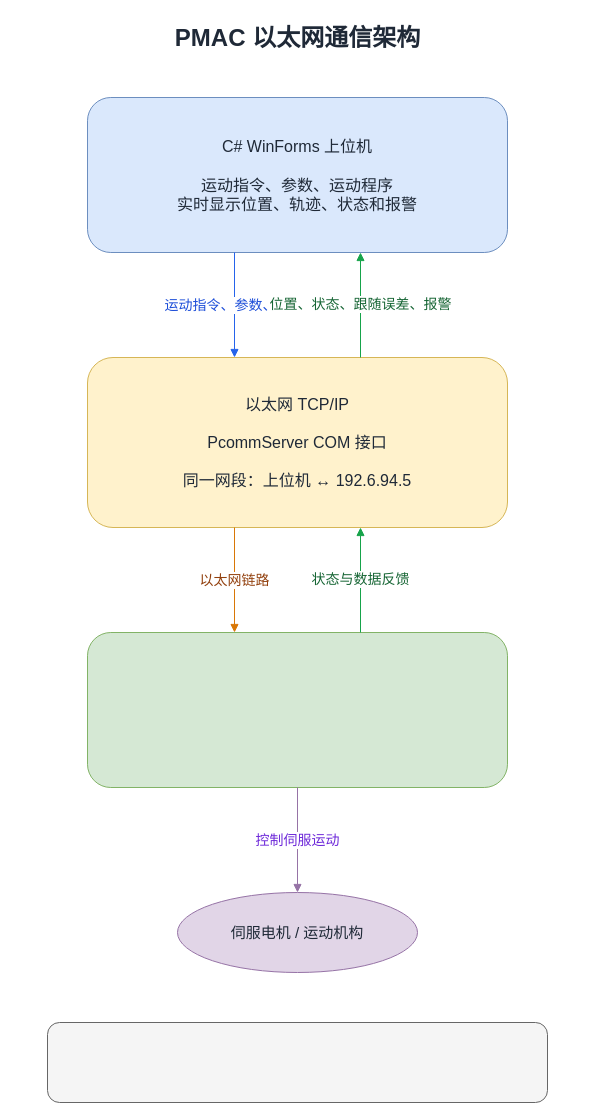
Image size: 594x1120. Some labels were removed from this diagram. Each missing label, with the centre of its shape:
PMAC 默认 IP：192.6.94.5 上位机配置为同一网段即可建立通信: (x=297, y=1062)
Turbo PMAC 下位机 解析指令并控制伺服电机 反馈位置、状态、跟随误差: (x=297, y=710)
